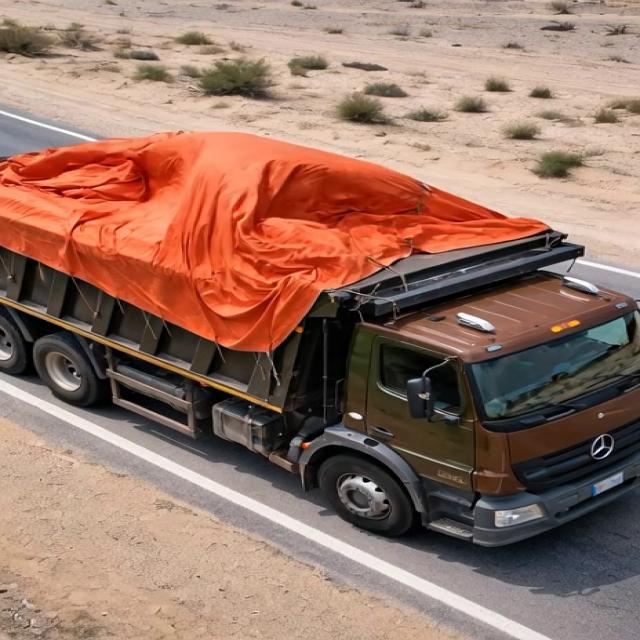Box: (0, 124, 590, 312)
Truck: (0, 97, 636, 558)
